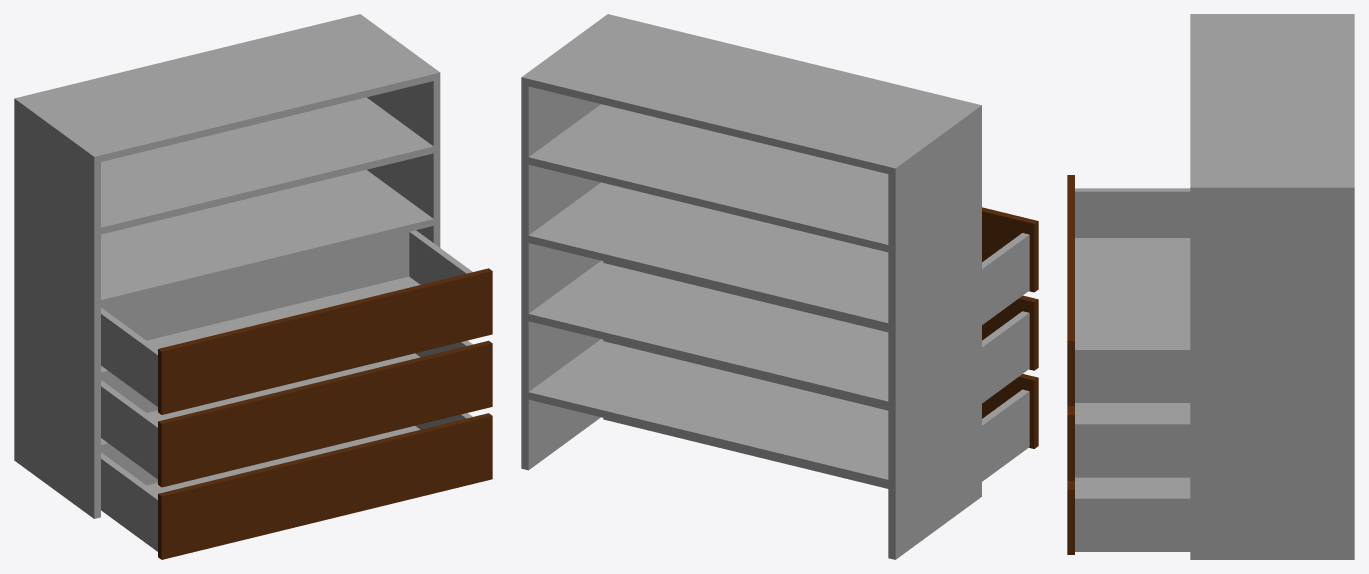
The model's file is meuble_68faa7b5a553e.glb.
3 views of the same model, side by side, from view 1: azimuth 30°, elevation 25°; view 2: azimuth 150°, elevation 25°; view 3: azimuth 270°, elevation 25° (orthographic). The views are drawn at different scales.
Parts seen in each view (by area): view 1: world; view 2: world; view 3: world.
Boxes of the visible parts, <box> form: world: <box>14,14,492,559</box>; world: <box>521,14,1038,559</box>; world: <box>1067,14,1354,559</box>.
Size of the model in its own units: 1 by 1 by 0.7.
Materials: 1 (1 with a texture image).
